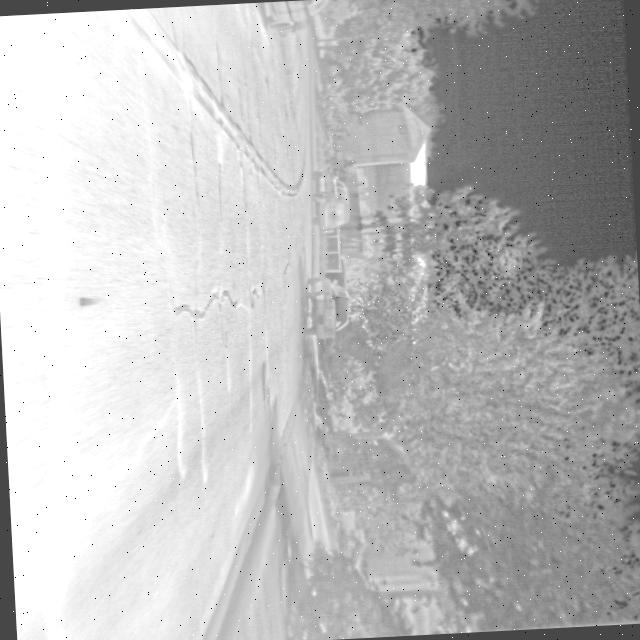Vehicle: (299, 271, 356, 342), (308, 166, 354, 231)
